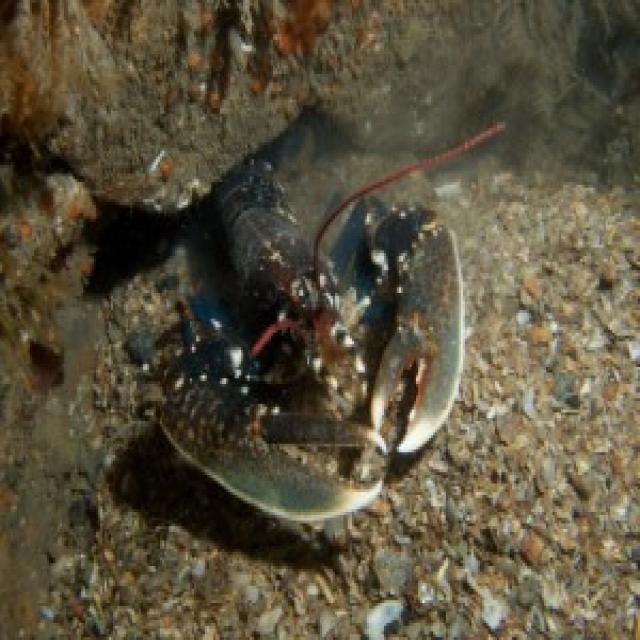lobsters: (108, 87, 534, 614)
